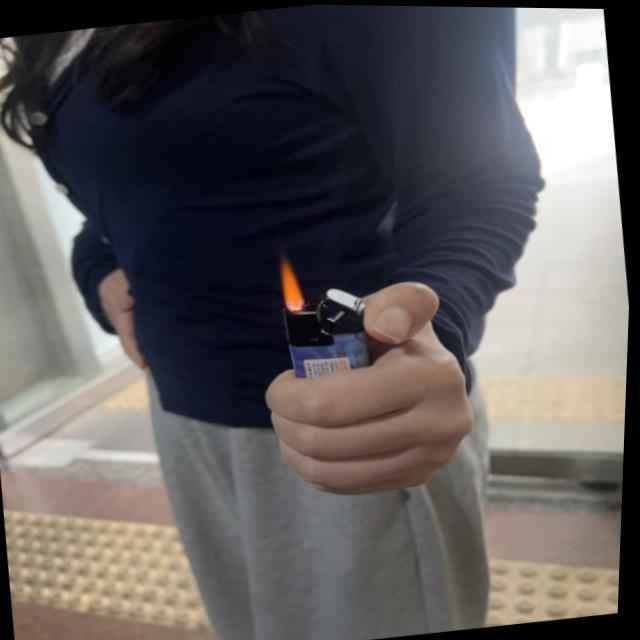Fire: (277, 258, 308, 311)
